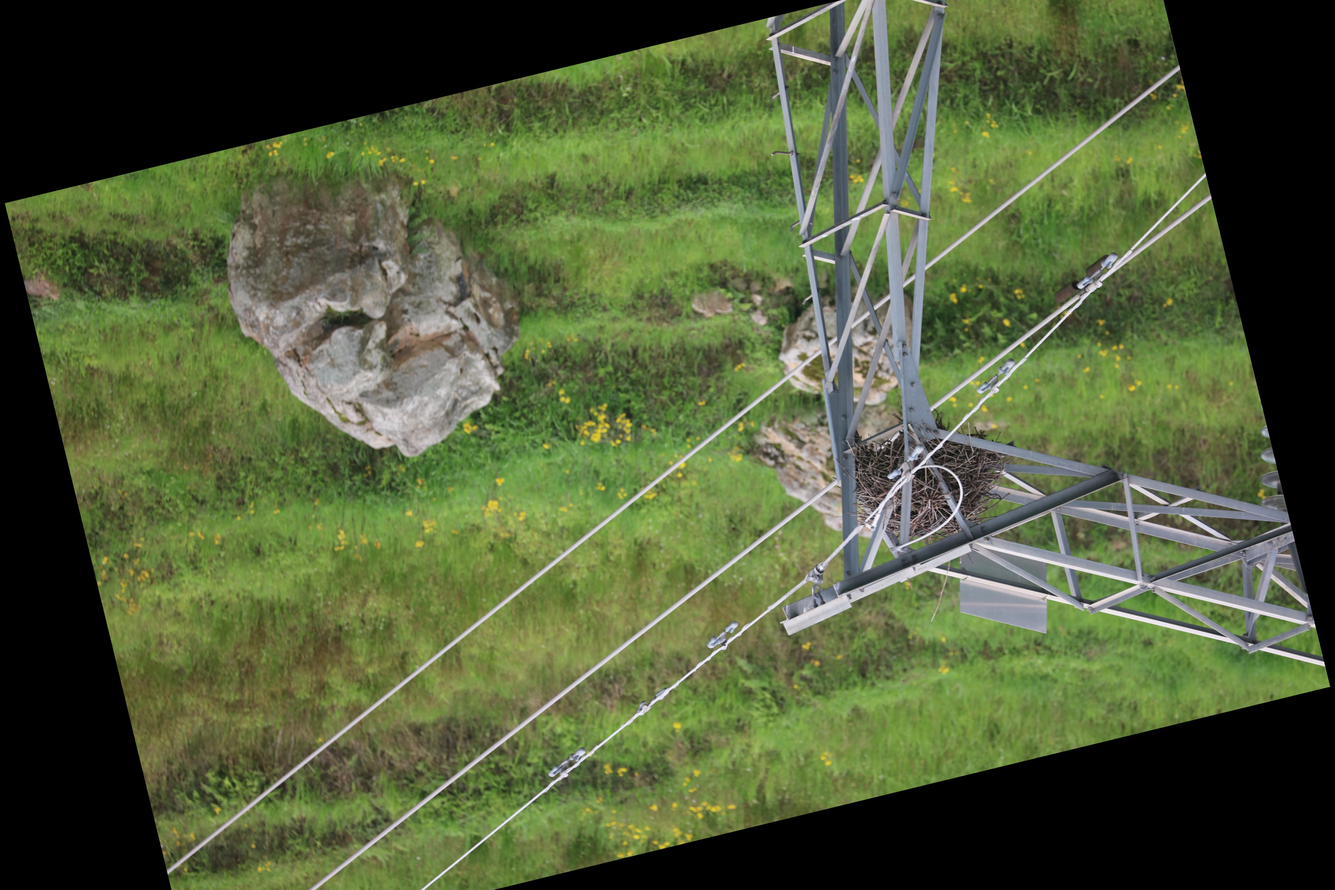damper: (1068, 248, 1128, 295), (878, 440, 933, 486), (968, 355, 1023, 400), (540, 743, 594, 783), (700, 617, 746, 657)
damper_defect: (1042, 250, 1121, 308)
